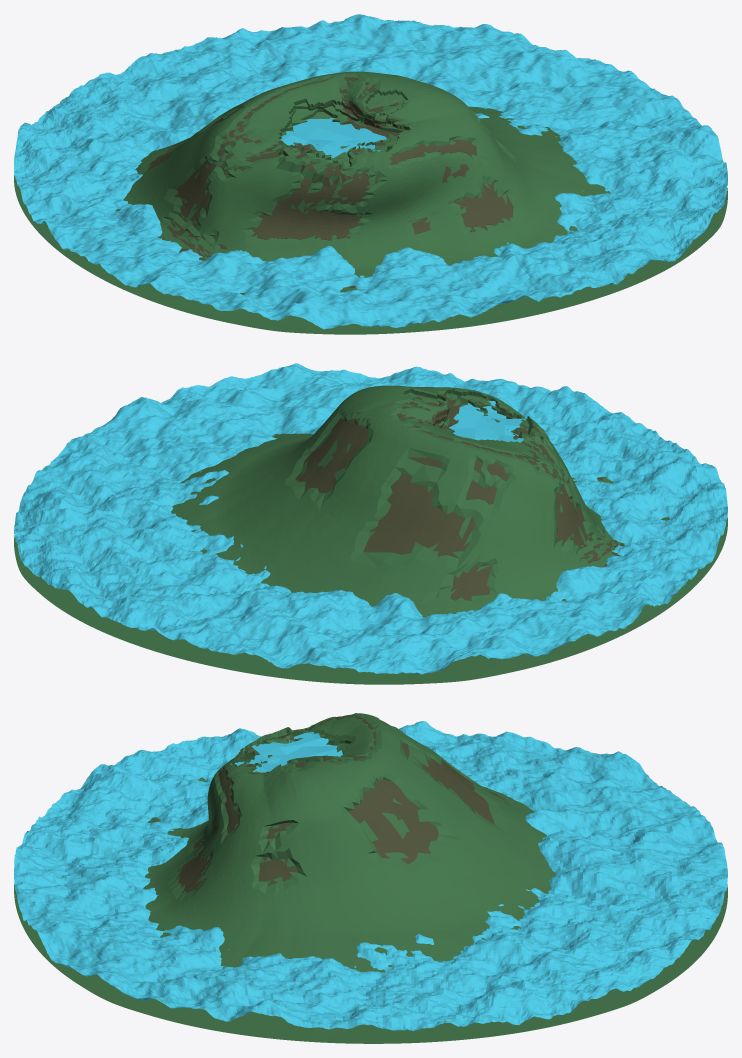
The model's file is superlan.fbx.
3 renders of one model, top to bottom at view 1: azimuth 30°, elevation 25°; view 2: azimuth 150°, elevation 25°; view 3: azimuth 270°, elevation 25°, orthographic. The views are drawn at different scales.
Visible parts, largest first — view 1: Cube.001, Cube, Grid; view 2: Cube.001, Cube, Grid; view 3: Cube.001, Cube, Grid.
Boxes of the visible parts, x1,y1,x2,y2 form: Cube.001: [14, 14, 727, 329]; Cube: [14, 71, 727, 334]; Grid: [280, 118, 386, 157]; Cube.001: [14, 363, 727, 674]; Cube: [14, 385, 727, 684]; Grid: [449, 401, 525, 442]; Cube.001: [14, 721, 727, 1030]; Cube: [14, 713, 727, 1043]; Grid: [235, 732, 342, 772].
Size of the model in its own units: 1831 by 355 by 1831.
